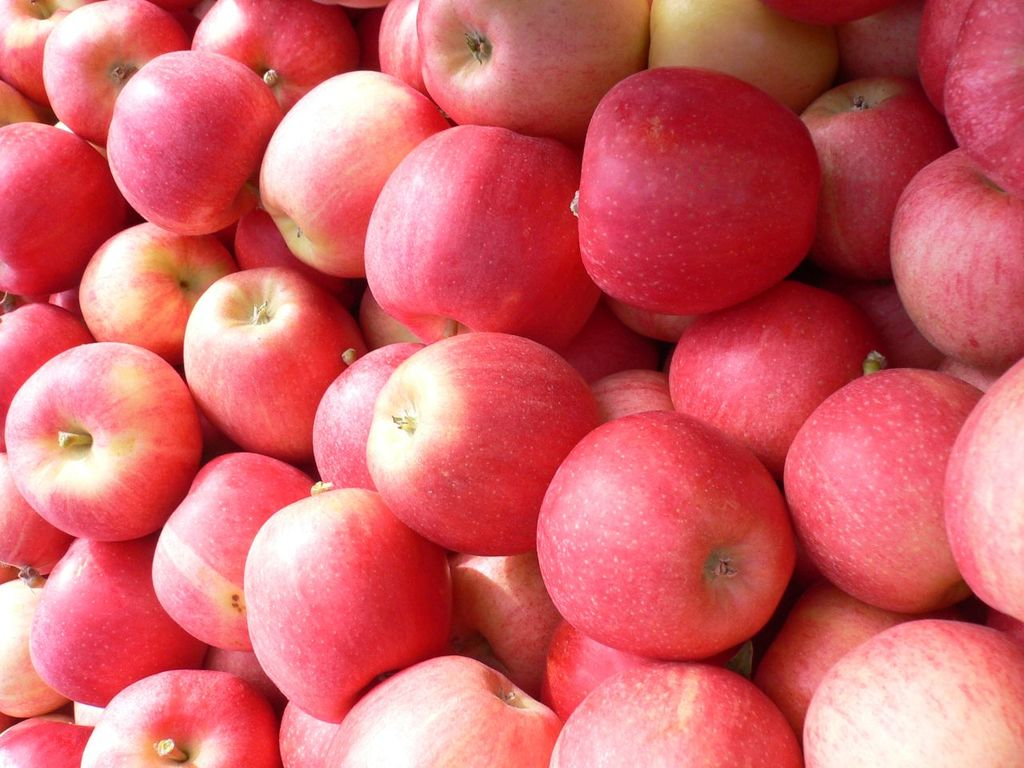Apple: (0, 0, 1023, 767), (533, 408, 794, 663), (570, 65, 818, 321)
